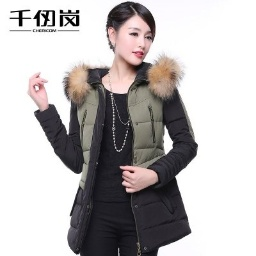face: (104, 1, 156, 67)
